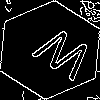W: (25, 25, 97, 90)
